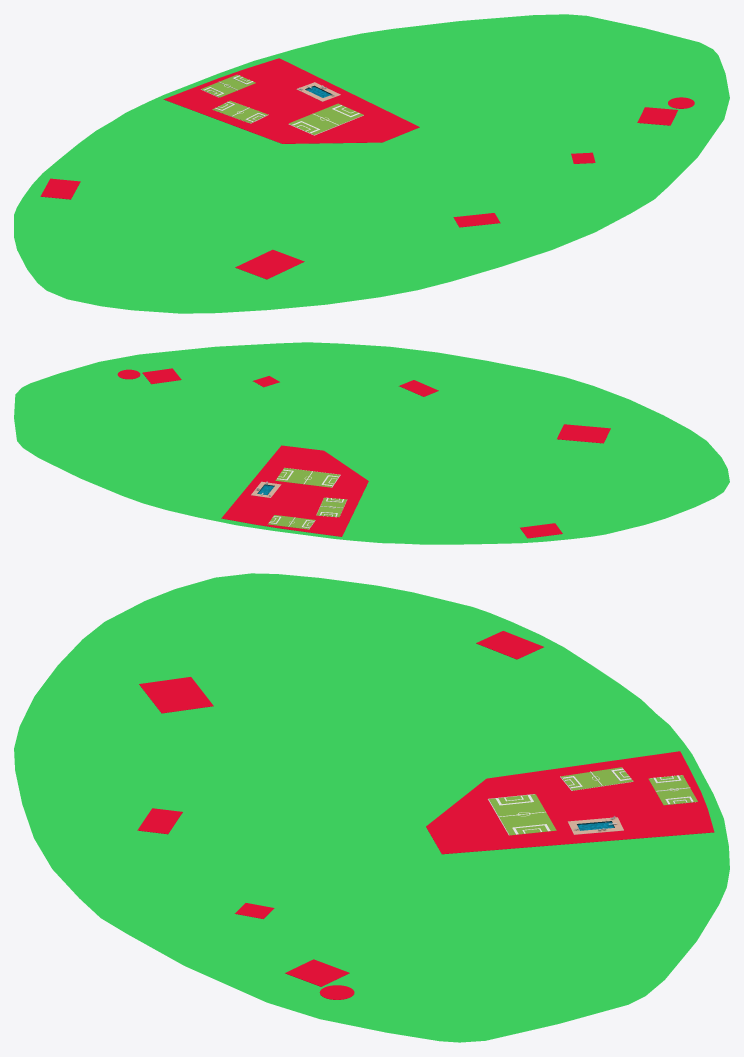
Rendered from saavedra.glb.
3 views of the same model, one above another, from view 1: azimuth 30°, elevation 25°; view 2: azimuth 150°, elevation 25°; view 3: azimuth 270°, elevation 25° (orthographic). The views are drawn at different scales.
Visible parts, largest first — view 1: SaavedraPark, ClubSanJorge, Field1, Playground, Field3, Field2, Sandbox, PirateShip, PlaygroundTruck; view 2: SaavedraPark, ClubSanJorge, Field1, Playground, Field3, Field2, Sandbox, PirateShip, PlaygroundTruck; view 3: SaavedraPark, ClubSanJorge, Field1, Playground, Field2, Field3, Sandbox, PirateShip, PlaygroundTruck, Pool.
Boxes of the visible parts, x1,y1,x2,y2 form: SaavedraPark: (14, 14, 729, 313); ClubSanJorge: (163, 58, 419, 143); Field1: (289, 103, 363, 134); Playground: (235, 249, 304, 279); Field3: (201, 74, 255, 97); Field2: (212, 101, 267, 123); Sandbox: (40, 178, 80, 199); PirateShip: (637, 107, 677, 125); PlaygroundTruck: (453, 213, 500, 227); SaavedraPark: (14, 342, 729, 544); ClubSanJorge: (221, 445, 368, 536); Field1: (275, 468, 339, 487); Playground: (557, 424, 610, 443); Field3: (268, 515, 314, 529); Field2: (316, 497, 346, 517); Sandbox: (520, 523, 562, 538); PirateShip: (142, 368, 181, 384); PlaygroundTruck: (399, 380, 438, 396); SaavedraPark: (14, 573, 729, 1042); ClubSanJorge: (426, 751, 714, 854); Field1: (489, 794, 556, 835); Playground: (139, 677, 213, 713); Field2: (560, 767, 633, 790); Field3: (648, 775, 697, 805); Sandbox: (476, 631, 543, 659); PirateShip: (285, 959, 349, 986); PlaygroundTruck: (137, 808, 182, 834); Pool: (567, 816, 623, 834).
Bounding box in the file's own units: 511 × 4.28 × 330.
Materials: 9 (1 with a texture image).
